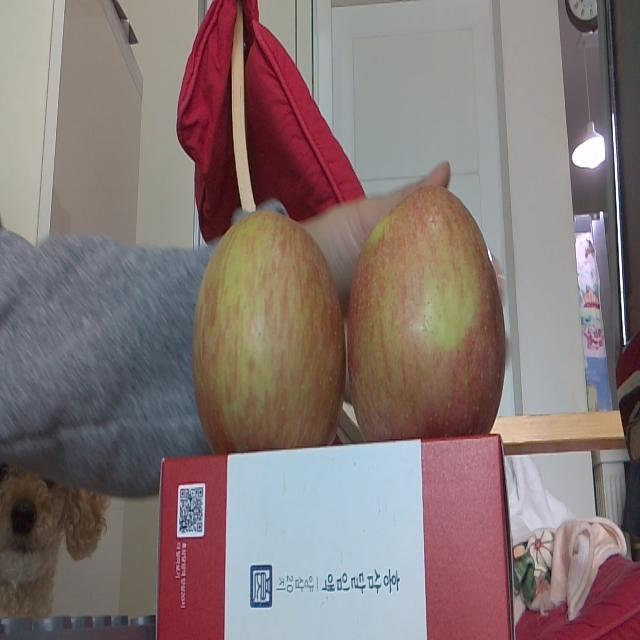apple: (351, 188, 508, 445), (192, 211, 346, 451)
